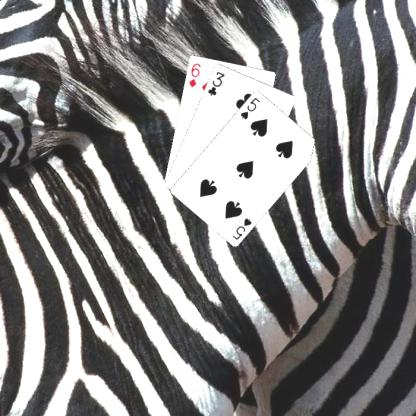3C: (205, 68, 226, 97)
5S: (230, 215, 254, 241), (238, 95, 261, 121)
6D: (186, 60, 202, 89)
